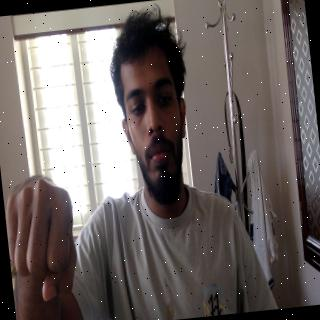Yes: (0, 144, 101, 308)
